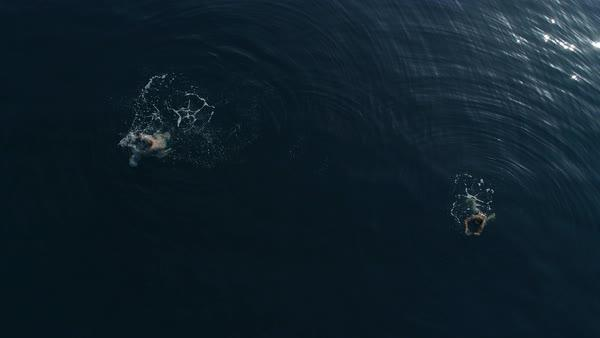swimmer: (463, 203, 494, 238), (137, 130, 170, 150)
